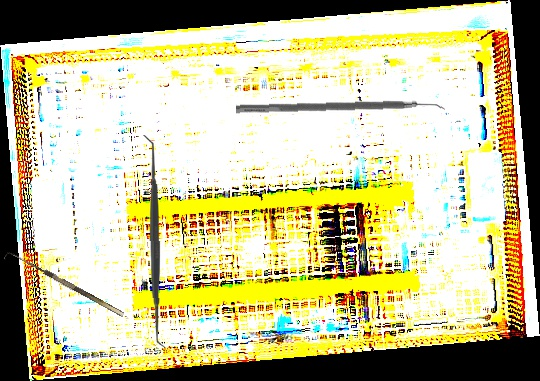Hook Surgical: (3, 248, 125, 324)
Spatula Surgical: (140, 134, 169, 348), (235, 97, 446, 123)
